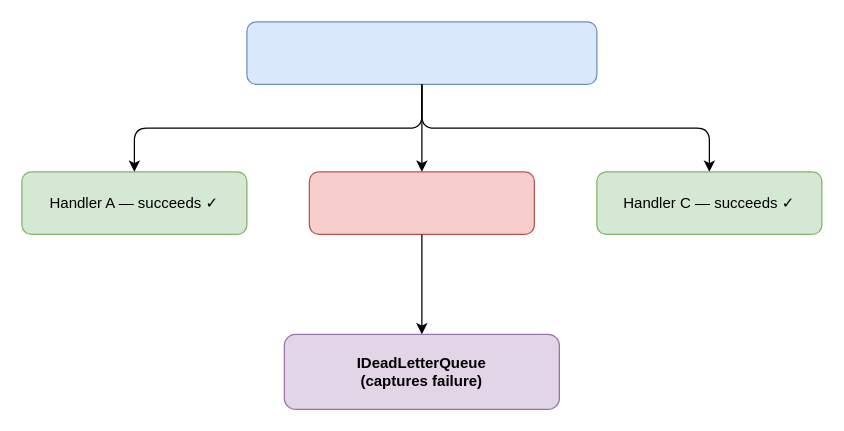
This 844x431 diagram has some shape labels left out. The shapes that lost their labels are listed below. From the top down, each one's box as (x1, y1, x2, y2) in pixels, then its label:
(246, 21, 597, 84): Publish(event, ResilientParallel)
(308, 171, 534, 234): Handler B — throws! ✗
